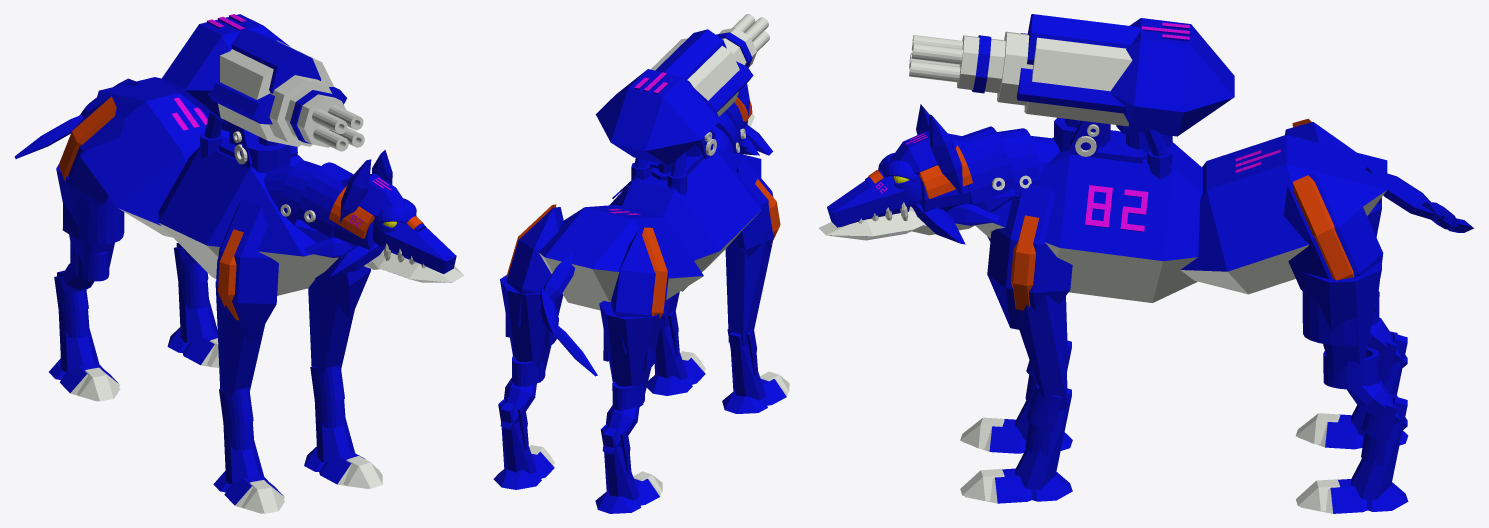
The model's file is CYBER WOLF.fbx.
3 renders of one model, left to right at view 1: azimuth 30°, elevation 25°; view 2: azimuth 150°, elevation 25°; view 3: azimuth 270°, elevation 25°, orthographic. The views are drawn at different scales.
Parts seen in each view (by area): view 1: New Game Object; view 2: New Game Object; view 3: New Game Object.
Part boxes in pixels (<box>): New Game Object: <box>14,14,464,513</box>; New Game Object: <box>493,14,789,513</box>; New Game Object: <box>819,14,1473,513</box>.
Size of the model in its own units: 398 by 883 by 1158.
